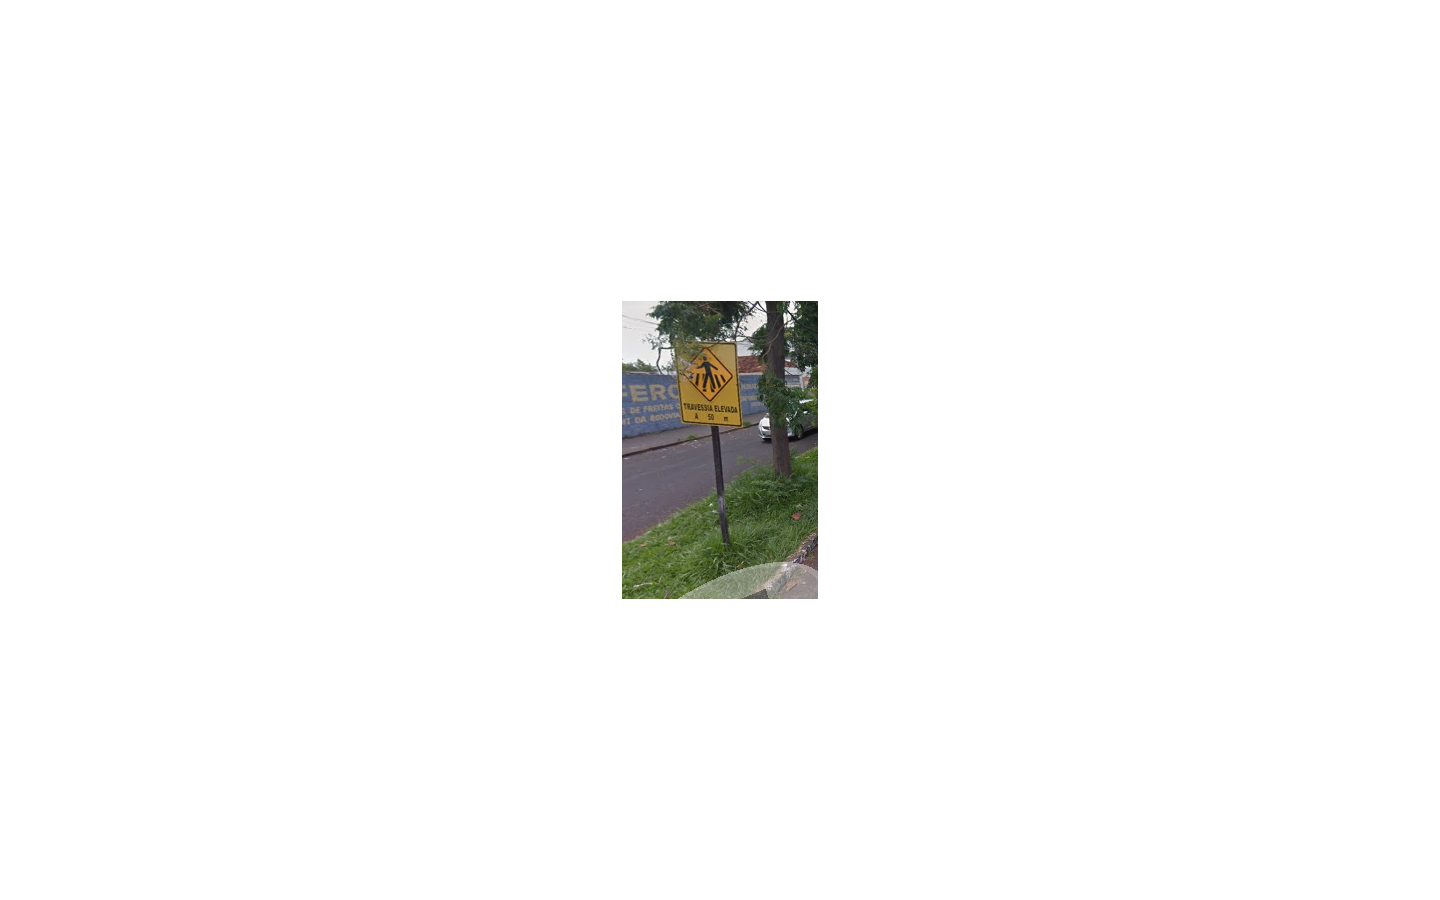t50m: (675, 341, 742, 427)
